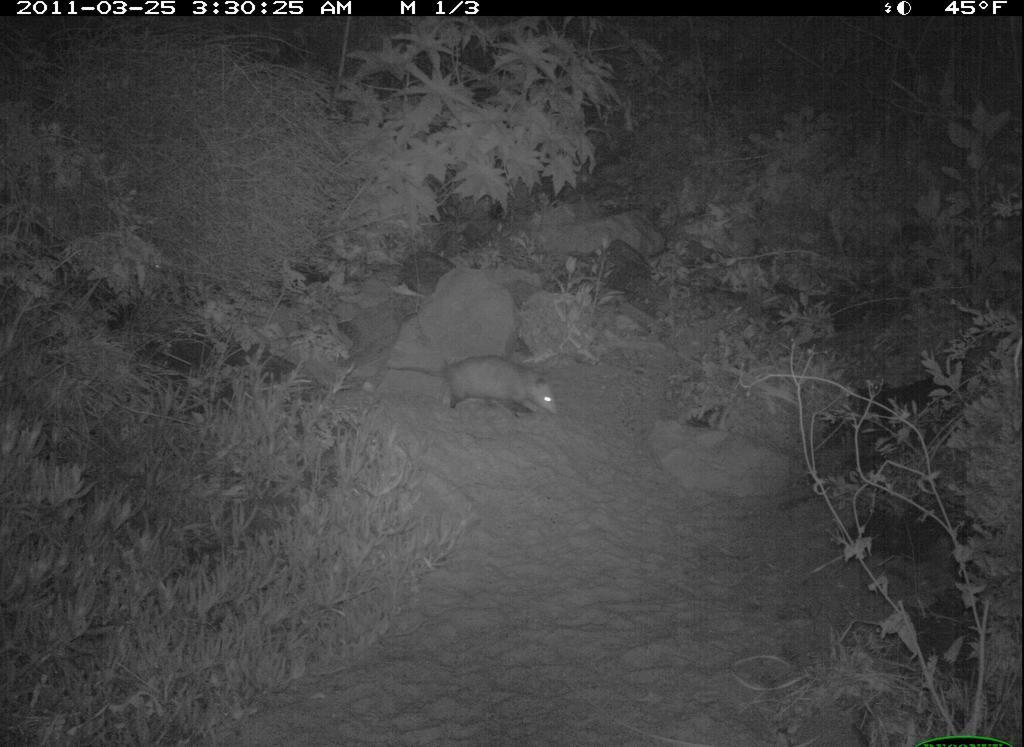opossum: (384, 352, 563, 421)
